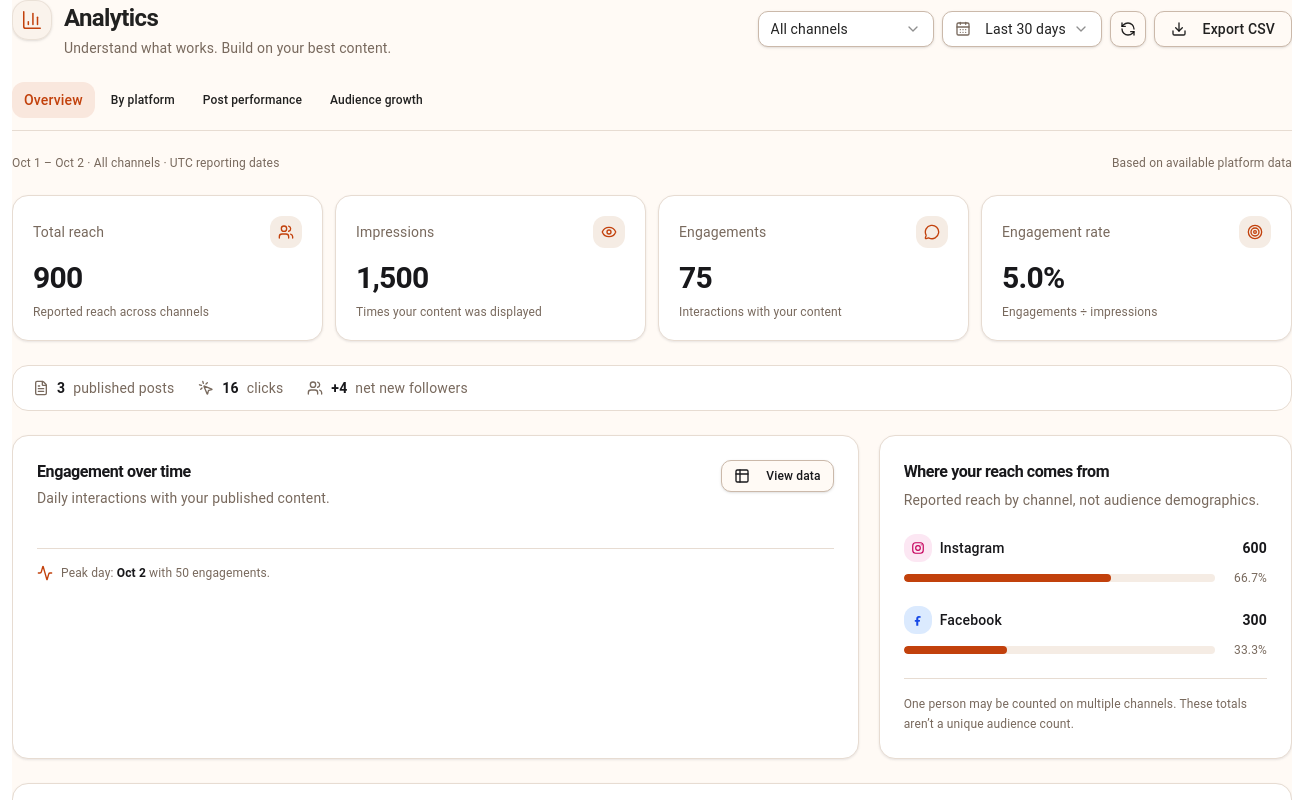
Scenario: AnalyticsOverview › downloads a CSV for the current report
The width and height of the screenshot is (1304, 800).
Expected: the heading "Total reach" is shown, [33,222,104,242]
Click the button "Export CSV": (1223, 29) [1154,11,1292,47]
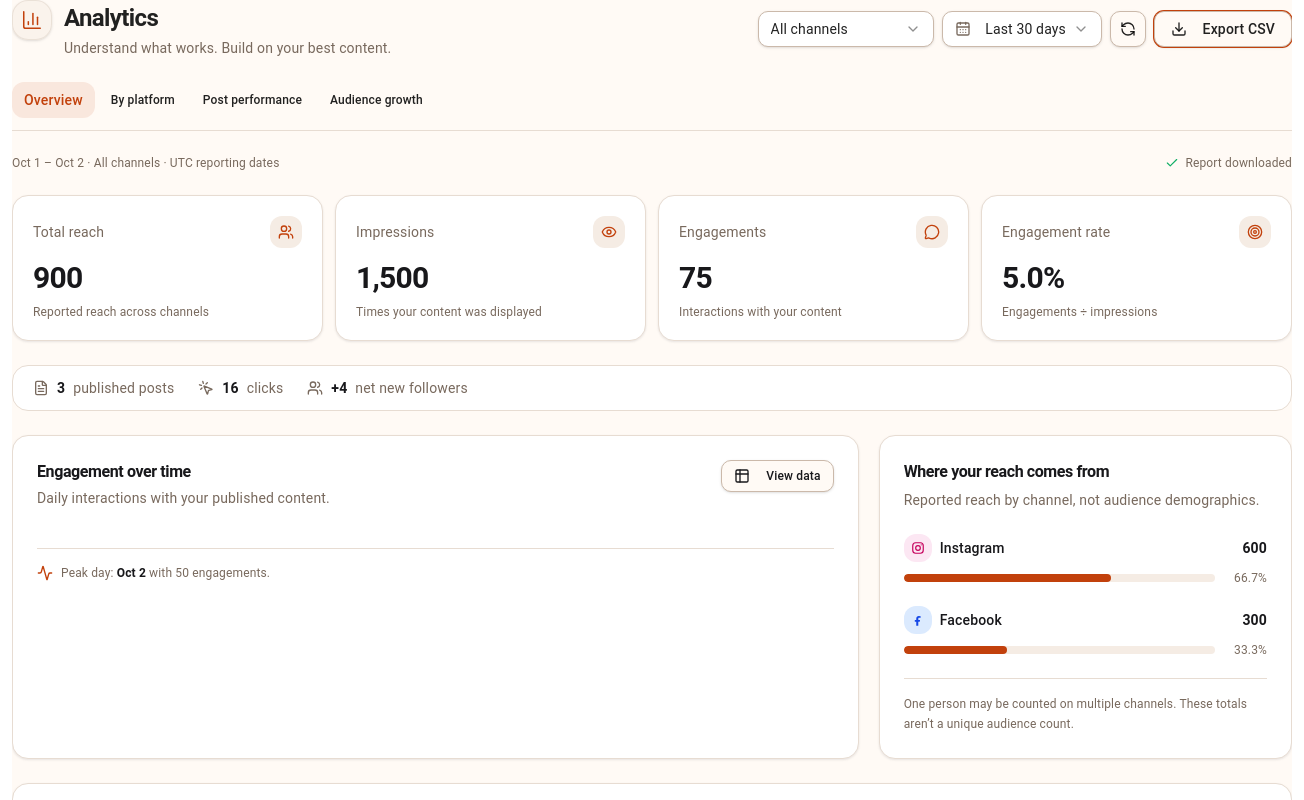
Expected: the text "Report downloaded" is shown, [1165,155,1292,171]
